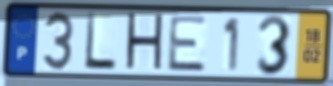1: (221, 15, 240, 74)
3: (255, 14, 294, 78), (41, 9, 76, 73)
E: (165, 14, 209, 74)
H: (123, 11, 166, 76)
L: (82, 12, 119, 73)
